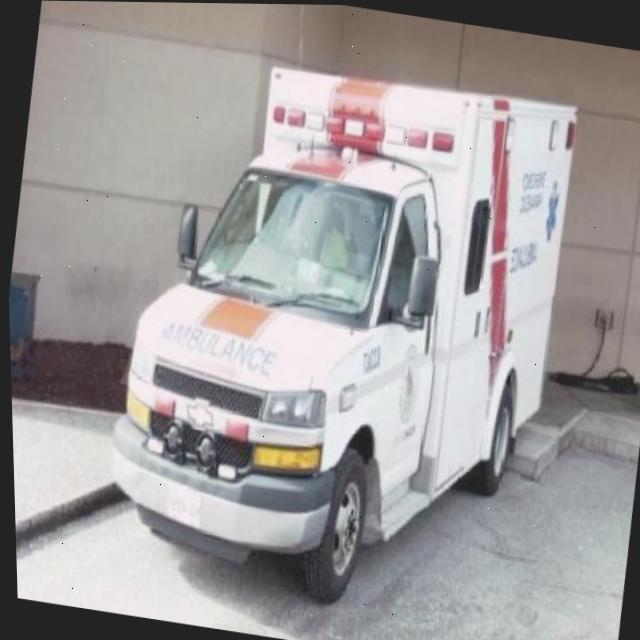emergency: (79, 37, 592, 633)
